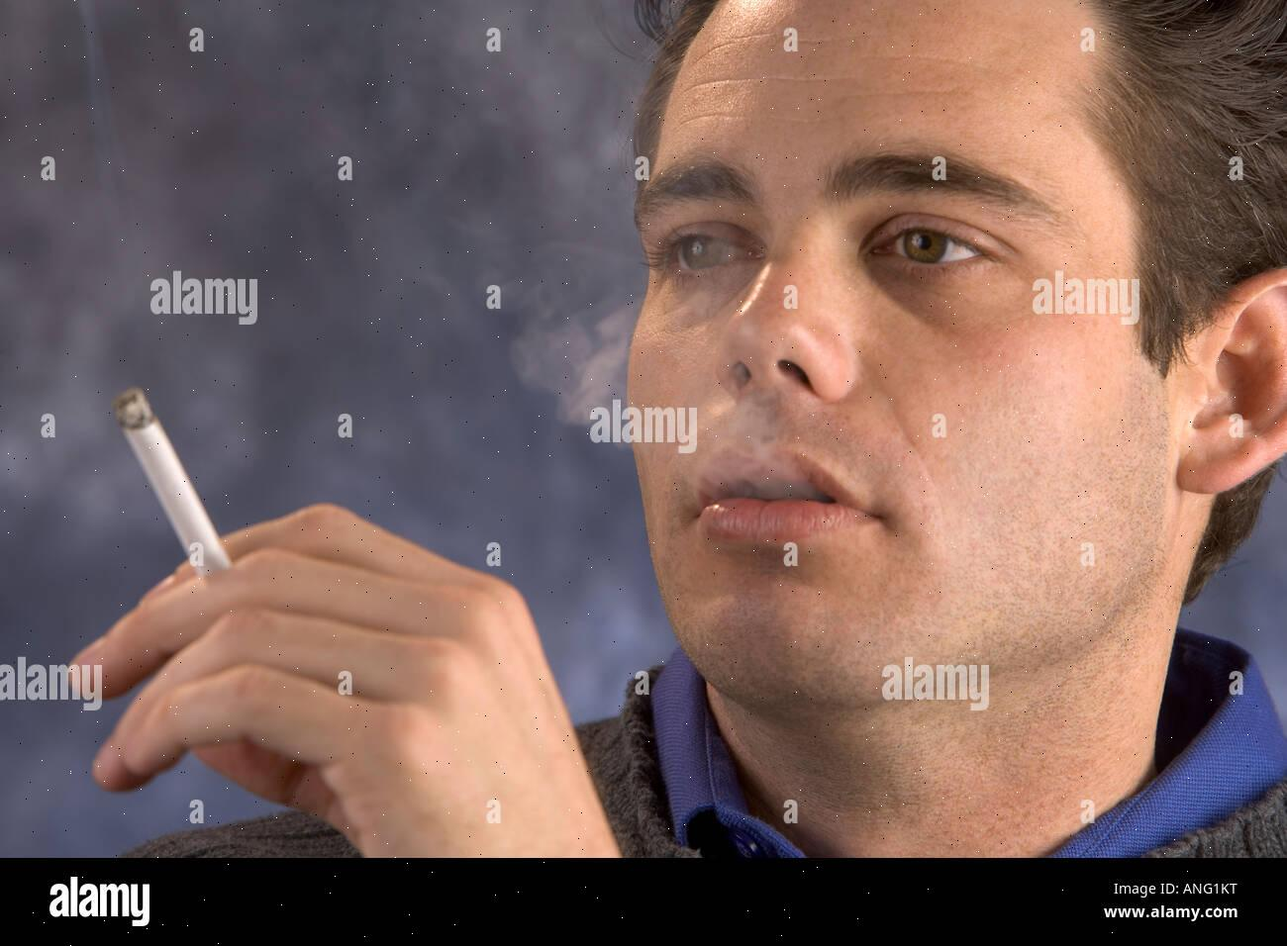cigarette: (113, 387, 229, 574)
